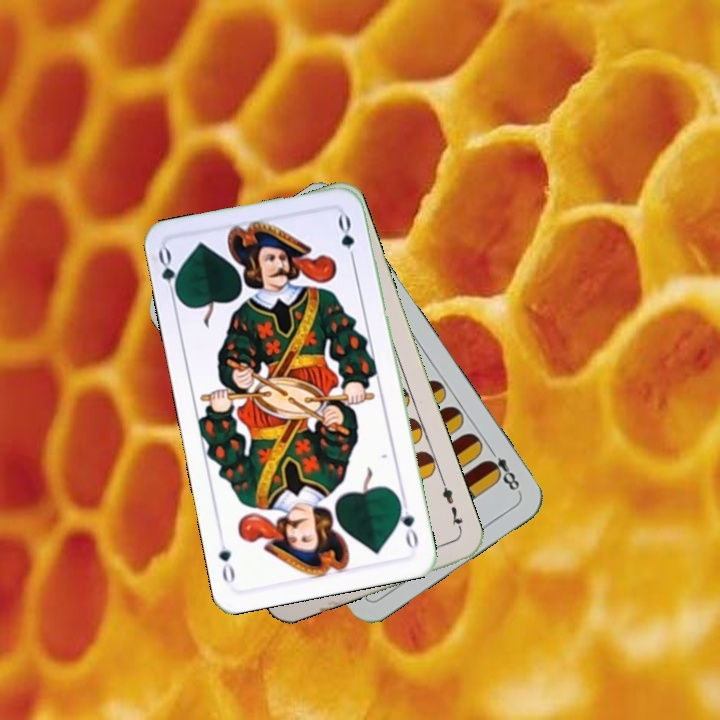E7: (438, 477, 465, 535)
E8: (481, 443, 522, 493)
GO: (154, 245, 183, 304), (394, 493, 421, 551)
